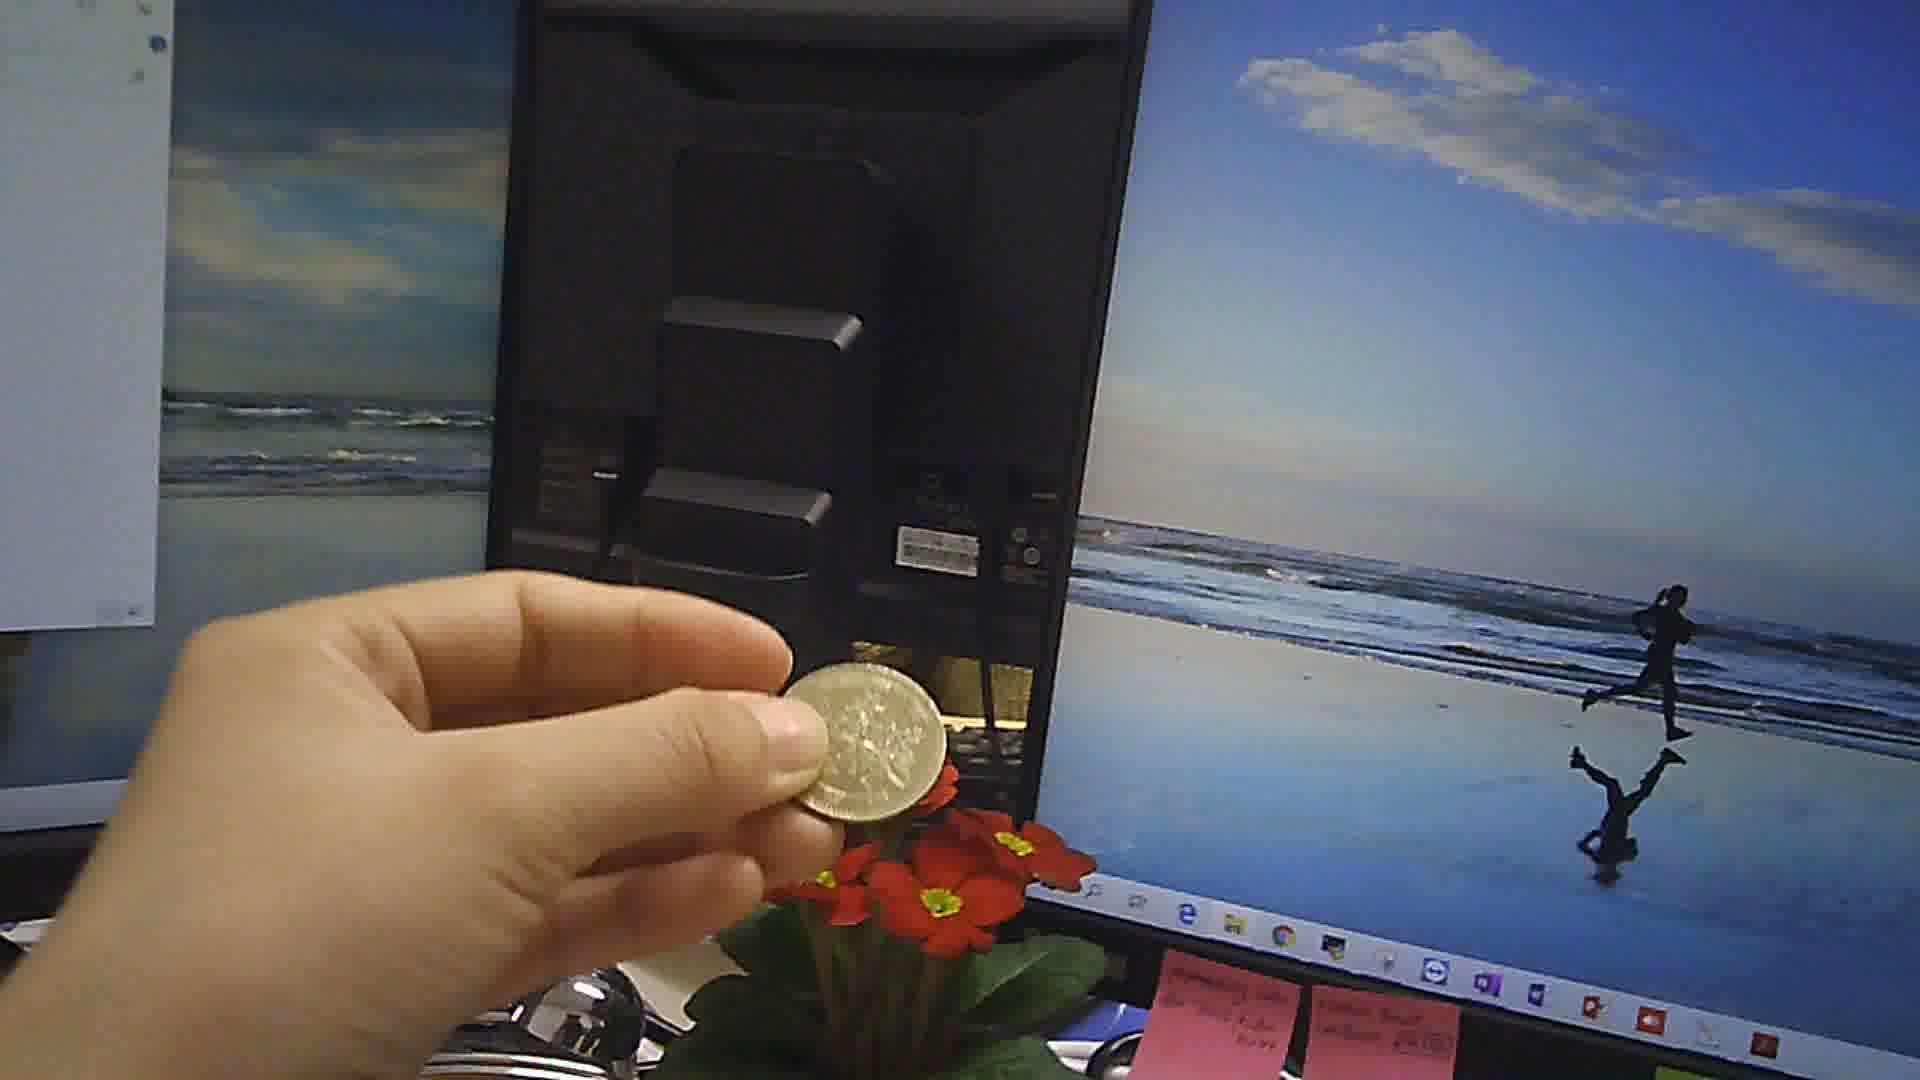500 Yen: (775, 655, 957, 824)
